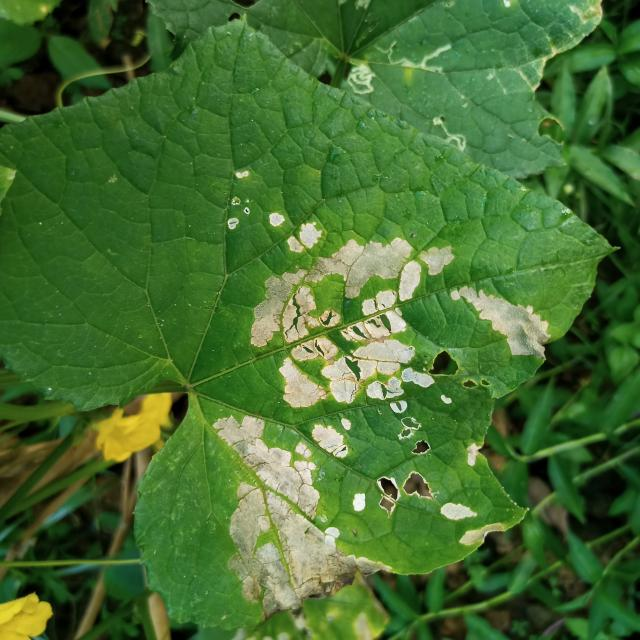disease_cucumber: (201, 408, 518, 623), (250, 206, 556, 416), (220, 167, 258, 238)
